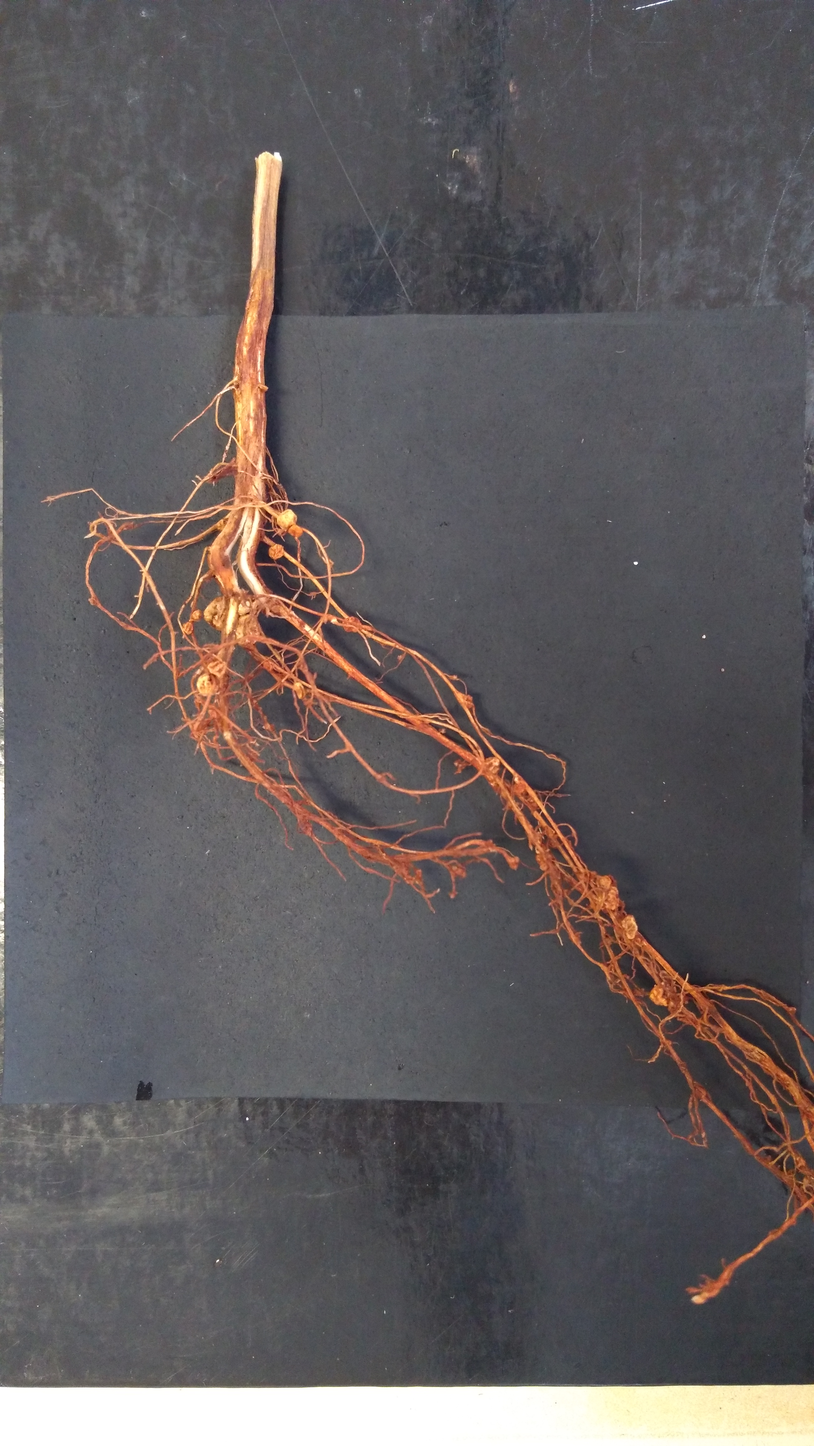nodule: (234, 612, 263, 649), (202, 595, 230, 632), (195, 672, 219, 697), (275, 509, 299, 533), (619, 913, 639, 940), (339, 614, 364, 635), (648, 983, 669, 1008), (206, 659, 228, 678), (605, 886, 621, 912), (483, 756, 502, 776), (267, 542, 286, 561), (237, 597, 254, 616), (294, 680, 307, 701), (287, 523, 303, 539), (598, 874, 612, 889), (181, 621, 194, 636), (214, 519, 228, 531), (191, 608, 202, 621)
